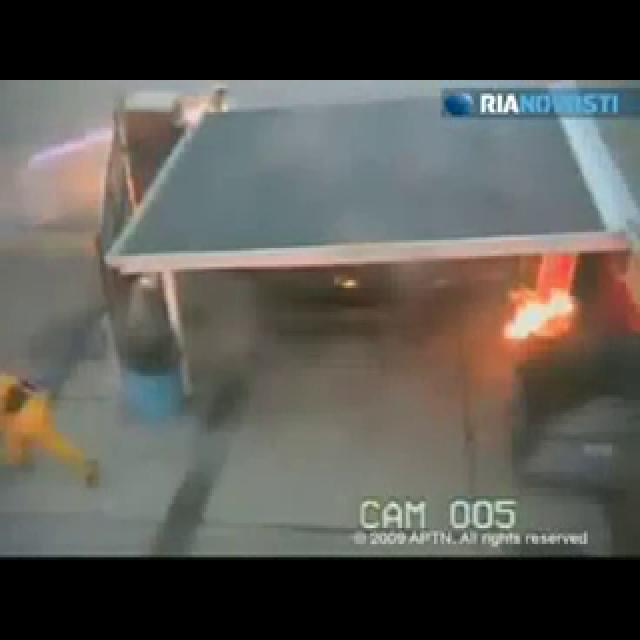explosion: (32, 107, 639, 512)
